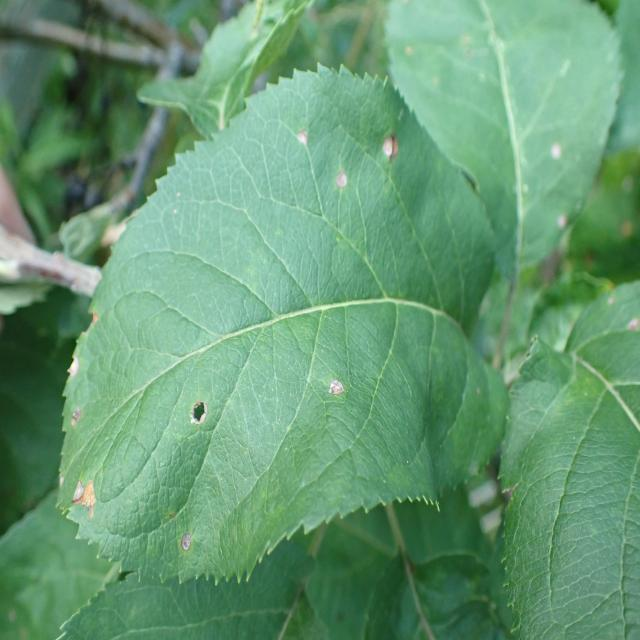Black Rot: (60, 474, 106, 528), (375, 113, 409, 181), (58, 324, 83, 386), (290, 106, 314, 166), (320, 366, 352, 406), (327, 160, 354, 203), (176, 521, 203, 564), (187, 394, 214, 436), (62, 407, 90, 431)
